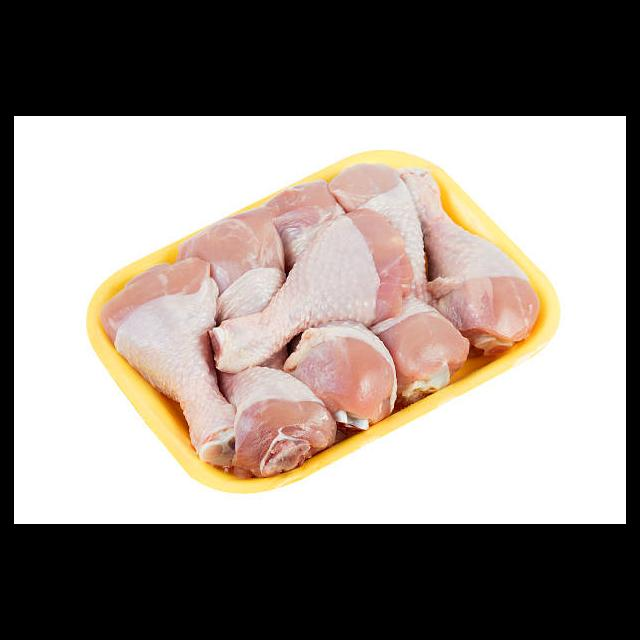chicken: (326, 161, 471, 401), (264, 180, 400, 430), (208, 214, 418, 375), (102, 256, 243, 469), (412, 174, 539, 357), (177, 204, 291, 372), (211, 362, 336, 485)
